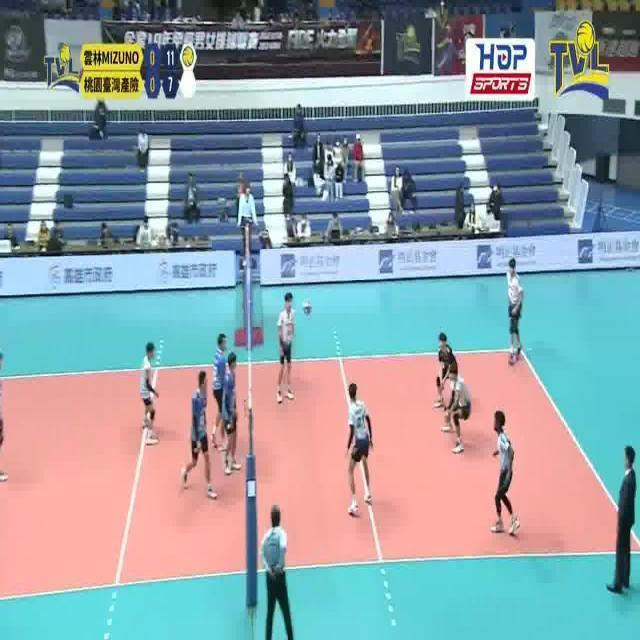volleyball: (302, 302, 312, 316)
